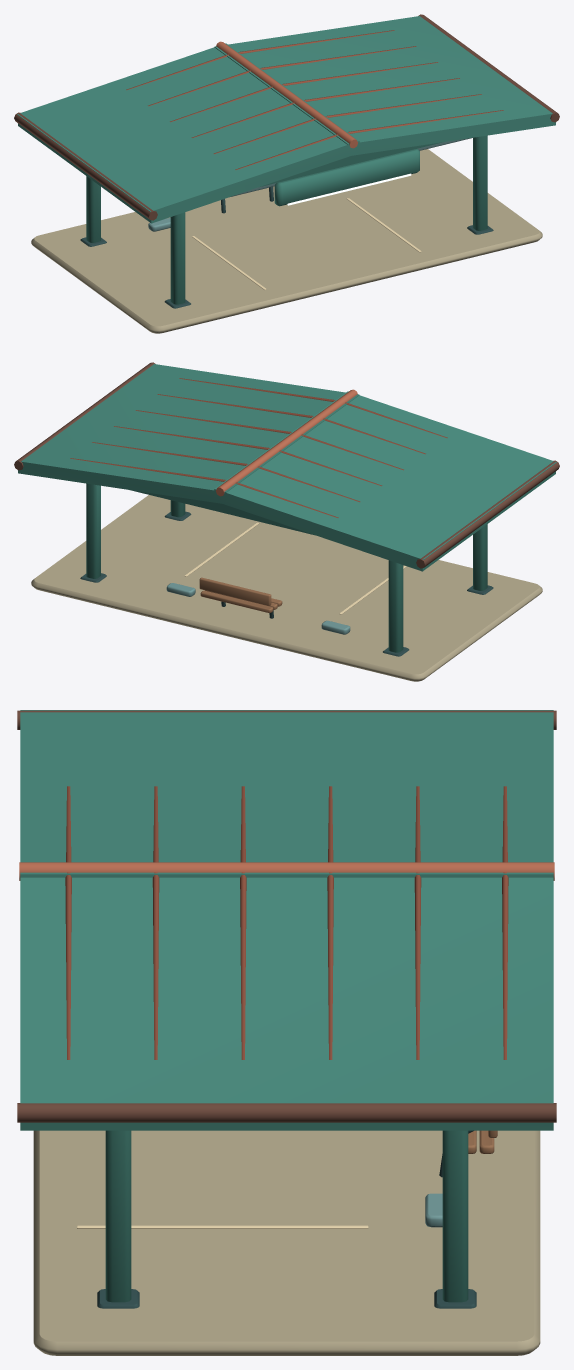
The model's file is tropical_parking.glb.
The picture shows the model from 3 angles, top to bottom: view 1: azimuth 30°, elevation 25°; view 2: azimuth 150°, elevation 25°; view 3: azimuth 270°, elevation 25°; orthographic projection. The views are drawn at different scales.
Parts seen in each view (by area): view 1: TropicalParking; view 2: TropicalParking; view 3: TropicalParking.
Part boxes in pixels (x1,y1,x2,y2): TropicalParking: (14, 14, 559, 333); TropicalParking: (14, 362, 559, 681); TropicalParking: (17, 710, 556, 1355).
Bounding box in the file's own units: 9.59 × 3.39 × 5.45.
